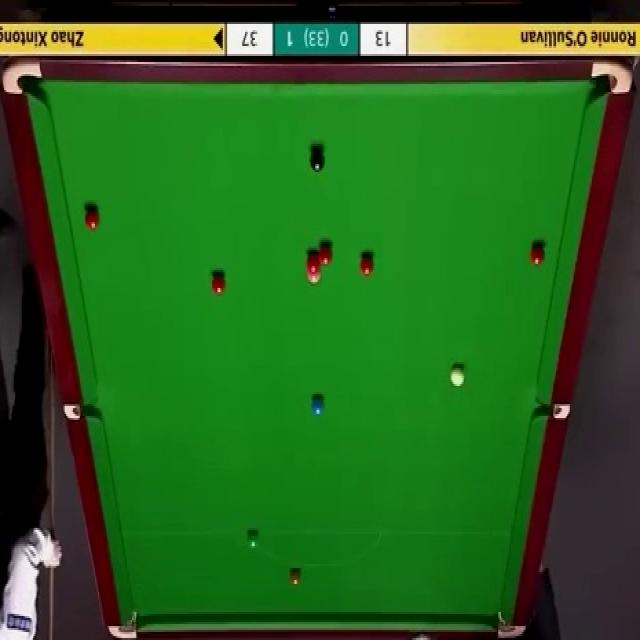black-ball: (308, 148, 327, 174)
blue-ball: (313, 395, 324, 415)
brown-ball: (288, 567, 304, 587)
green-ball: (247, 530, 260, 551)
pink-ball: (309, 264, 322, 284)
red-ball: (85, 205, 101, 232), (530, 242, 547, 264), (317, 243, 332, 265), (212, 273, 226, 295), (307, 248, 320, 270), (360, 254, 374, 274)
white-ball: (449, 366, 466, 385)
